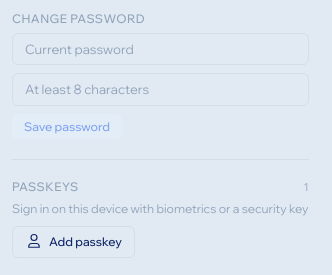
Test: SecuritySettings › для смены пароля требует текущий
Step 1. Type "new-password" into the password field with placeholder "At least 8 characters" → (160, 90), box left=12, top=74, right=308, bottom=106
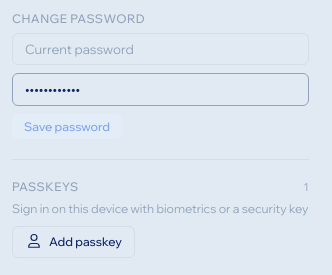
Expected: the button "Save password" is disabled, left=12, top=114, right=122, bottom=139
Step 2. Type "old-password" into the password field with placeholder "Current password" → (160, 49), box left=12, top=33, right=308, bottom=66
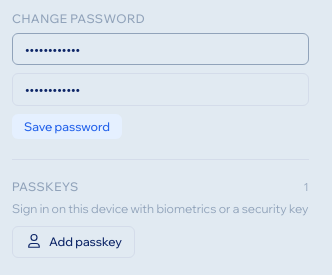
Expected: the button "Save password" is enabled, left=12, top=114, right=122, bottom=139
